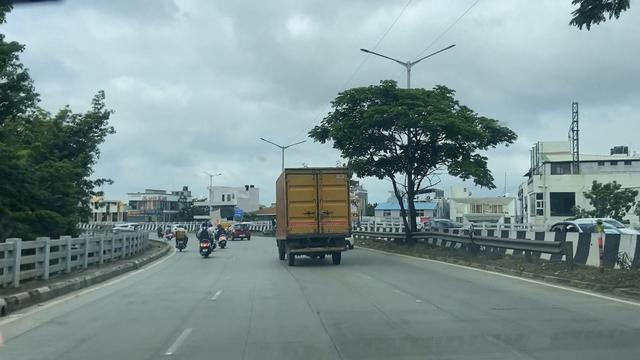HMV: (280, 167, 350, 262)
LMV: (198, 218, 213, 259), (173, 217, 187, 254), (231, 223, 247, 238), (218, 225, 226, 254)
